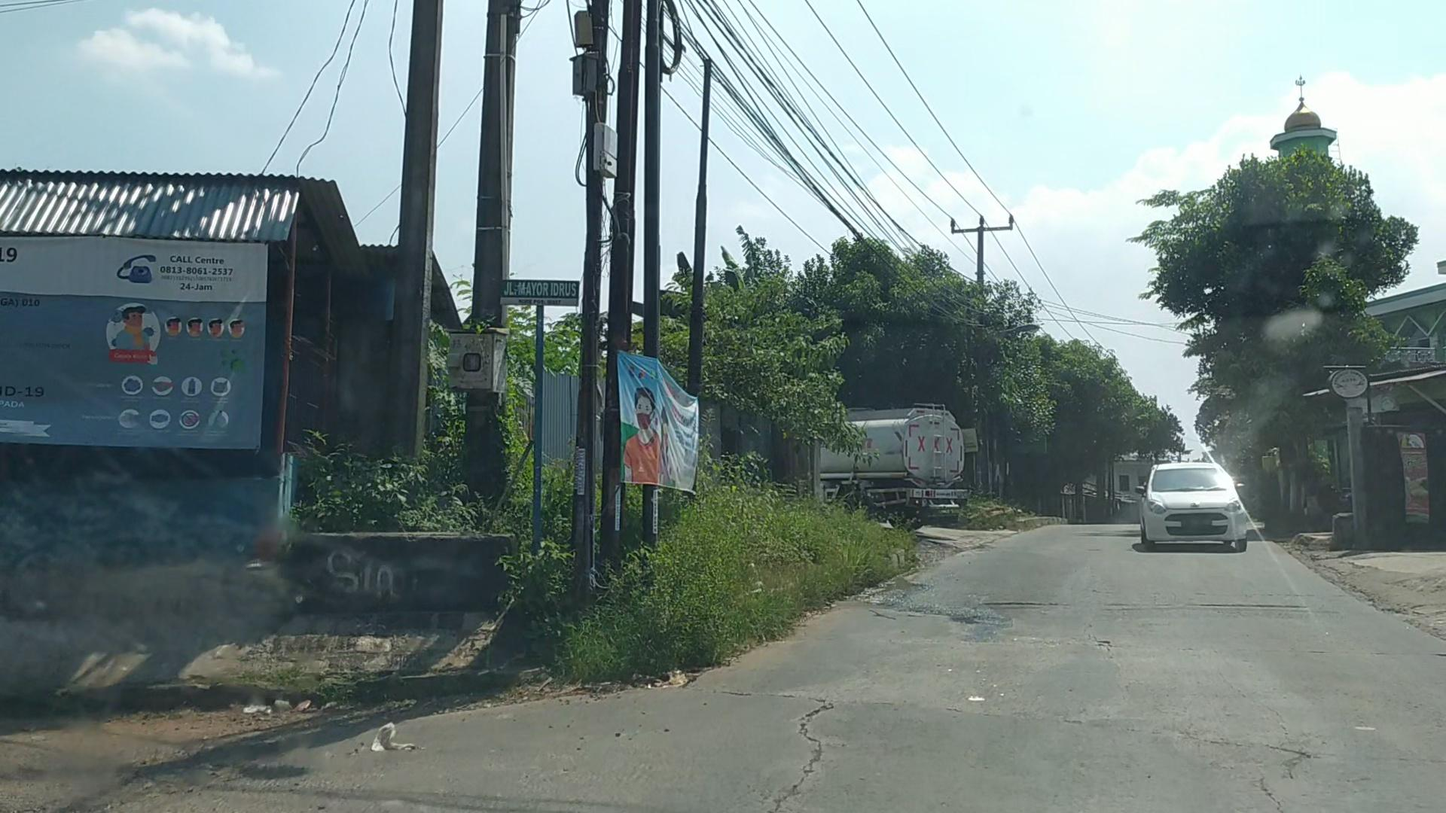pothole: (917, 606, 1013, 646)
